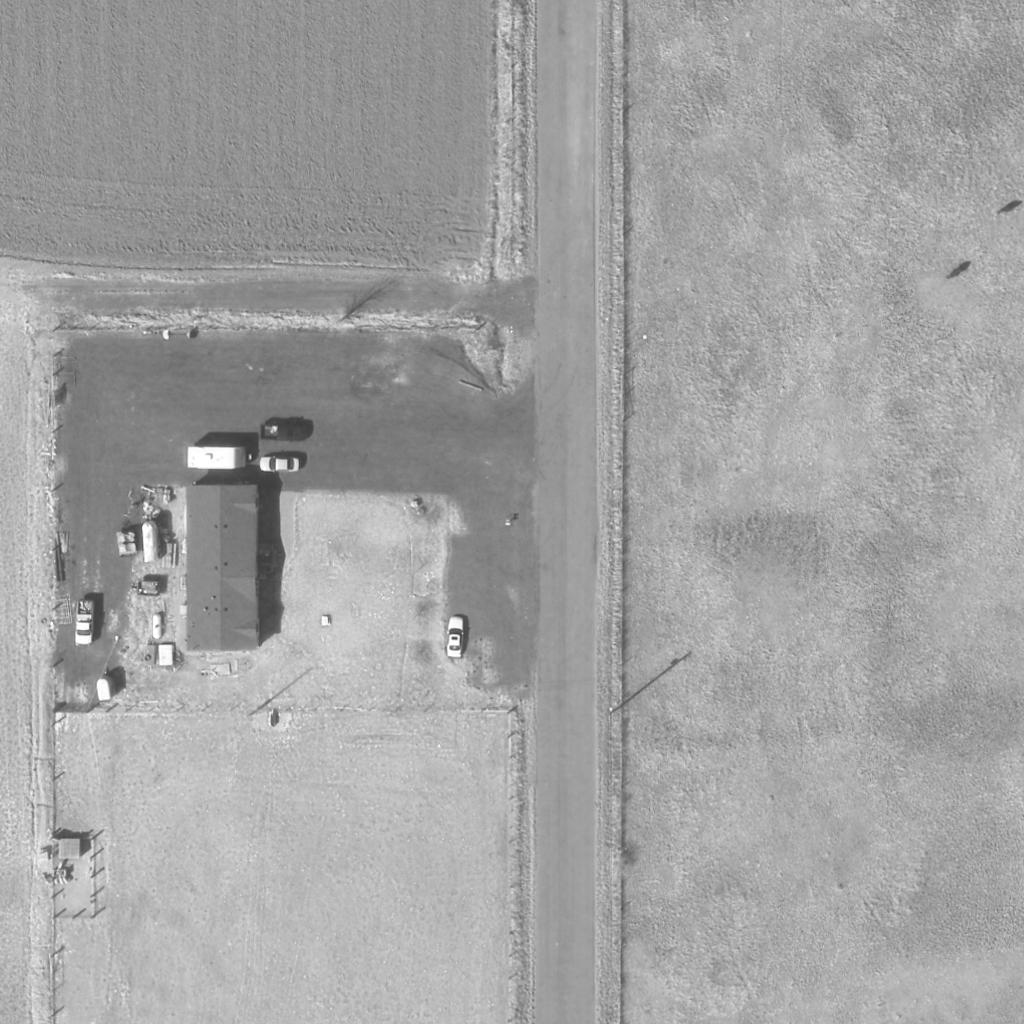vehicle: (183, 445, 249, 469), (75, 600, 95, 648), (261, 425, 309, 441), (444, 617, 462, 657), (257, 458, 303, 472)
